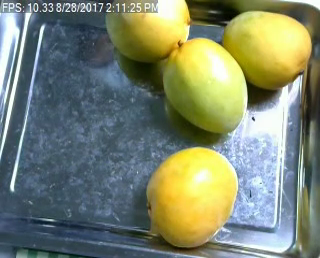Mango: (146, 147, 236, 248), (162, 37, 246, 135), (223, 11, 310, 88), (107, 0, 188, 61)
